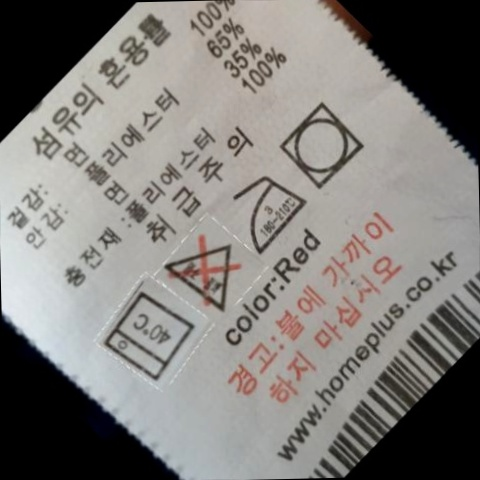40C: (110, 294, 198, 378)
iron_high: (239, 169, 308, 250)
non_chlorine_bleach: (170, 232, 247, 309)
tumble_dry_normal: (281, 97, 369, 193)
